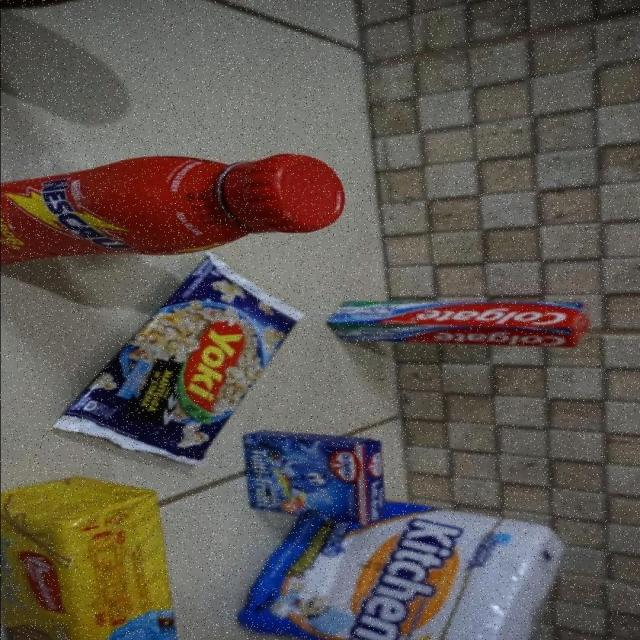ChocolateMilk: (0, 153, 350, 274), (0, 149, 348, 267)
Cracker: (0, 475, 189, 640), (0, 478, 181, 640)
Gelatine: (228, 423, 381, 520), (241, 427, 387, 527)
Napkin: (236, 503, 579, 640), (233, 501, 563, 640)
Popcorn: (47, 253, 305, 469), (52, 261, 303, 460)
Toothpaste: (318, 301, 595, 351), (323, 299, 593, 348)
